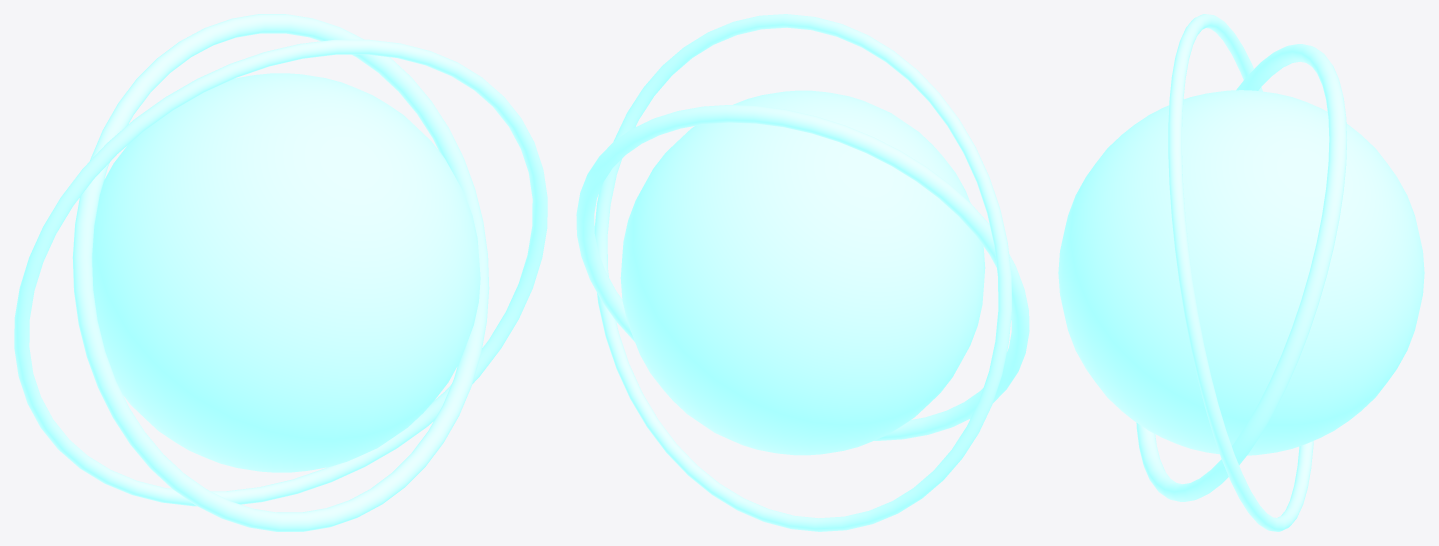
File: smooth_issue_orb.glb
3 renders of one model, left to right at view 1: azimuth 30°, elevation 25°; view 2: azimuth 150°, elevation 25°; view 3: azimuth 270°, elevation 25°, orthographic. The views are drawn at different scales.
Parts seen in each view (by area): view 1: SmoothIssueOrb; view 2: SmoothIssueOrb; view 3: SmoothIssueOrb.
Part boxes in pixels (left/top/right/bottom): SmoothIssueOrb: left=14, top=14, right=547, bottom=531; SmoothIssueOrb: left=576, top=14, right=1029, bottom=531; SmoothIssueOrb: left=1058, top=14, right=1424, bottom=531.
Bounding box in the file's own units: 2.6 × 2.57 × 1.84.
